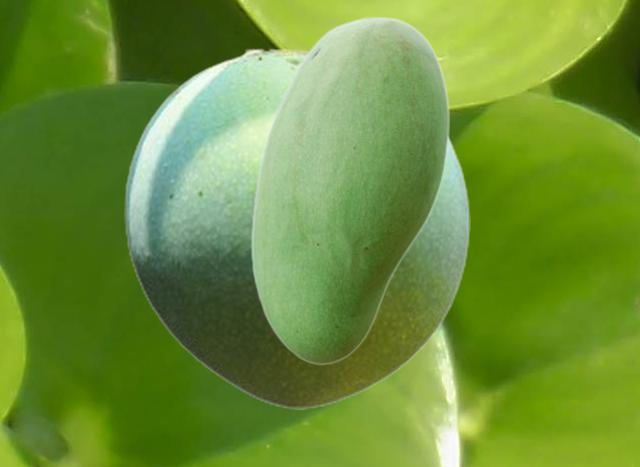green_mango: (124, 46, 469, 408), (250, 16, 448, 364)
